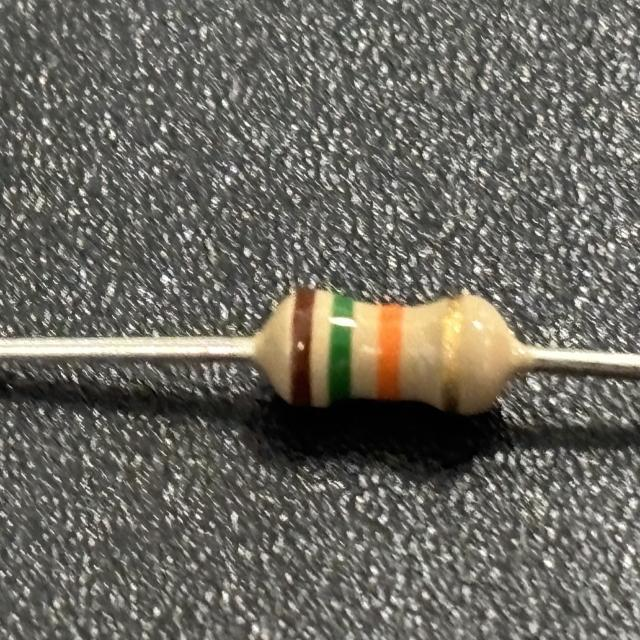resistor: (270, 280, 509, 423)
